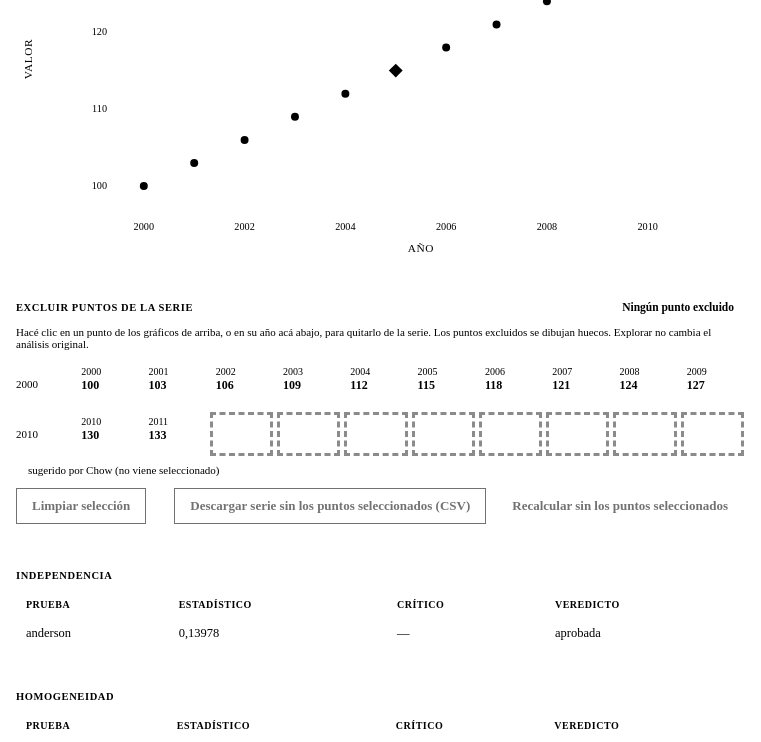
Test: ResultsPage — what-if de atípicos › pide al backend la serie efectiva y la configuración: Etapa 1, partición por defecto
(page scrolled)
Click the button "2003 109" at (309, 384), box [277,362,340,406]
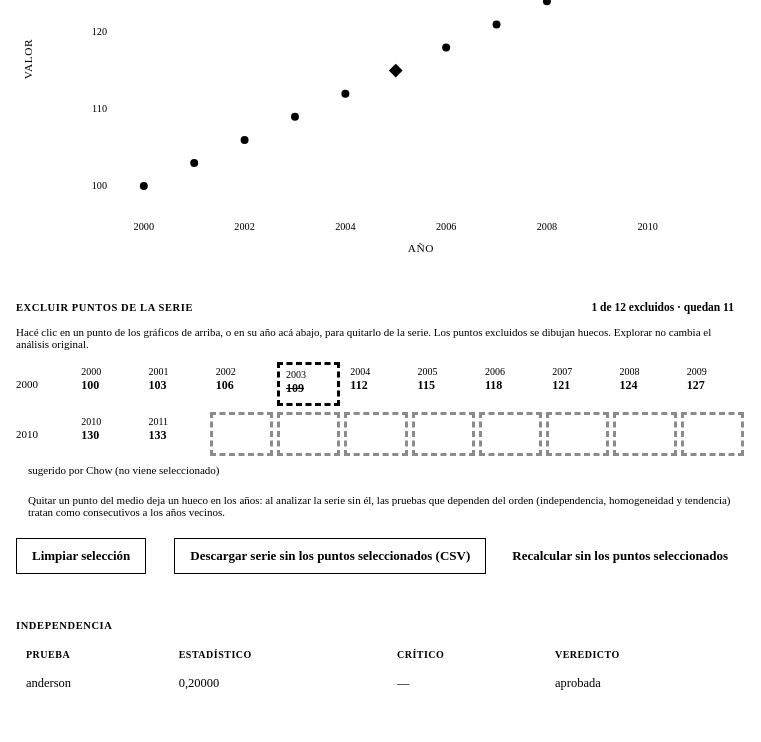
Click the button "Recalcular sin los puntos seleccionados" at (620, 556), box [496,538,744,574]
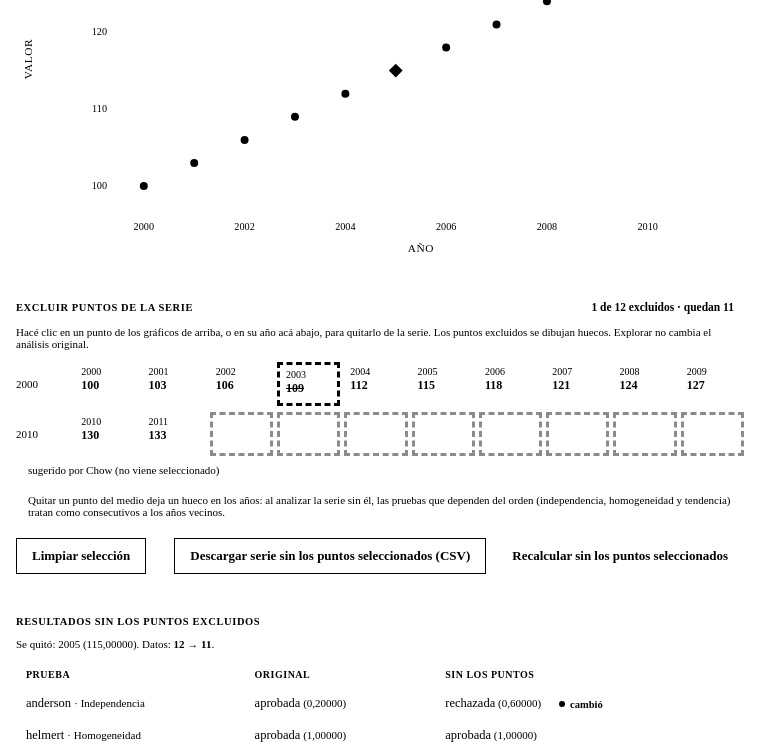
Check: the text "Resultados sin los puntos excluidos" is shown, box [16,616,260,627]
